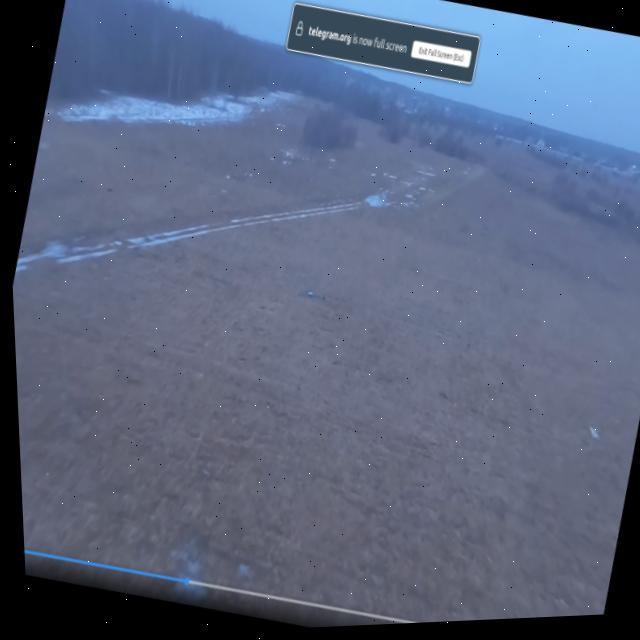planedrone: (297, 283, 328, 308)
